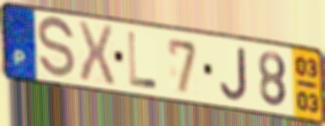7: (166, 37, 200, 94)
8: (258, 50, 289, 109)
J: (218, 44, 249, 103)
L: (126, 29, 159, 91)
S: (36, 15, 77, 82)
X: (75, 19, 117, 88)
